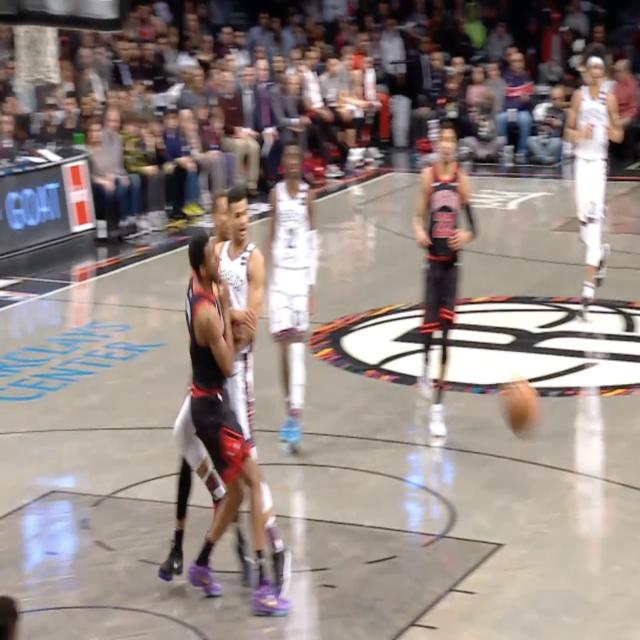Foul: (159, 202, 288, 615)
